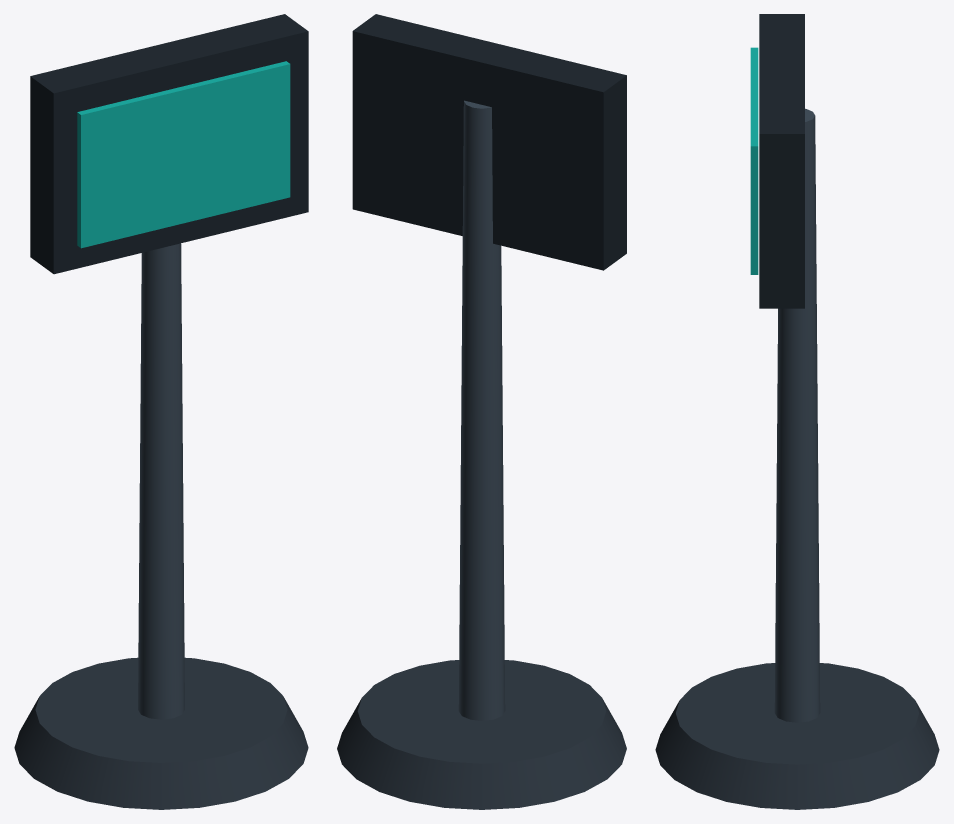
File: monitor.glb
The picture shows the model from 3 angles, left to right: view 1: azimuth 30°, elevation 25°; view 2: azimuth 150°, elevation 25°; view 3: azimuth 270°, elevation 25°; orthographic projection. The views are drawn at different scales.
Visible parts, largest first — view 1: merged-deviceDark, merged-screenTeal, merged-devicePanel, merged-deviceMid; view 2: merged-devicePanel, merged-deviceDark, merged-deviceMid; view 3: merged-deviceDark, merged-deviceMid, merged-devicePanel, merged-screenTeal.
Part boxes in pixels (bbox=[...]): merged-deviceDark: bbox=[14, 657, 308, 809]; merged-screenTeal: bbox=[77, 61, 290, 248]; merged-devicePanel: bbox=[30, 14, 308, 274]; merged-deviceMid: bbox=[138, 243, 184, 719]; merged-devicePanel: bbox=[352, 14, 626, 270]; merged-deviceDark: bbox=[337, 660, 626, 809]; merged-deviceMid: bbox=[458, 100, 505, 720]; merged-deviceDark: bbox=[655, 663, 939, 809]; merged-deviceMid: bbox=[774, 108, 820, 722]; merged-devicePanel: bbox=[759, 14, 804, 308]; merged-screenTeal: bbox=[750, 47, 758, 274].
Size of the model in its own units: 0.56 by 1.47 by 0.56.
